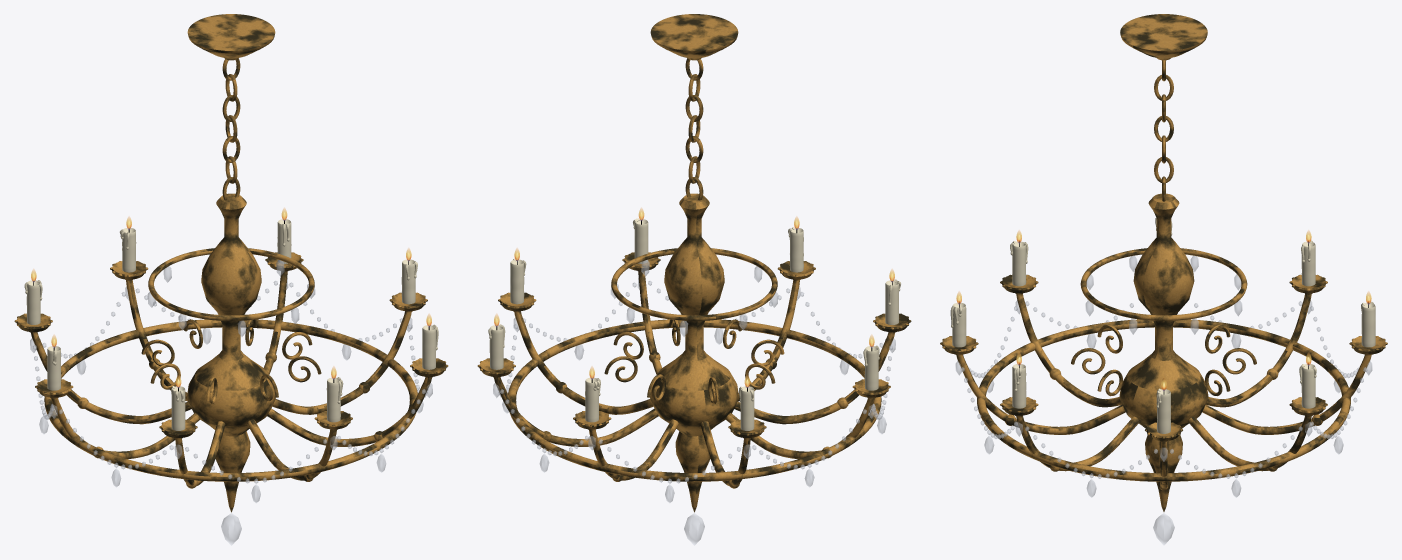
Rendered from Chandelier_Lit.gltf.
The picture shows the model from 3 angles, left to right: view 1: azimuth 30°, elevation 25°; view 2: azimuth 150°, elevation 25°; view 3: azimuth 270°, elevation 25°; orthographic projection.
Visible parts, largest first — view 1: Chandelier_Lit_Body, Chandelier_Lit_Crystals; view 2: Chandelier_Lit_Body, Chandelier_Lit_Crystals; view 3: Chandelier_Lit_Body, Chandelier_Lit_Crystals.
Boxes of the visible parts, x1,y1,x2,y2 form: Chandelier_Lit_Body: (14, 14, 448, 512); Chandelier_Lit_Crystals: (30, 260, 432, 545); Chandelier_Lit_Body: (477, 14, 911, 512); Chandelier_Lit_Crystals: (493, 260, 895, 545); Chandelier_Lit_Body: (940, 14, 1387, 511); Chandelier_Lit_Crystals: (955, 255, 1372, 545).
Size of the model in its own units: 1.23 by 1.55 by 1.23.
7 materials, 3 textured.
